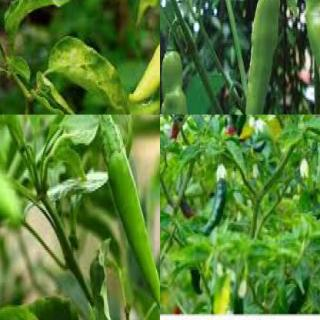green_chilli: (100, 148, 159, 320), (245, 0, 283, 114), (127, 0, 159, 108), (0, 135, 31, 228), (160, 48, 193, 114), (197, 174, 233, 233), (302, 0, 319, 114), (188, 268, 205, 296), (234, 114, 253, 134), (222, 114, 238, 128)
